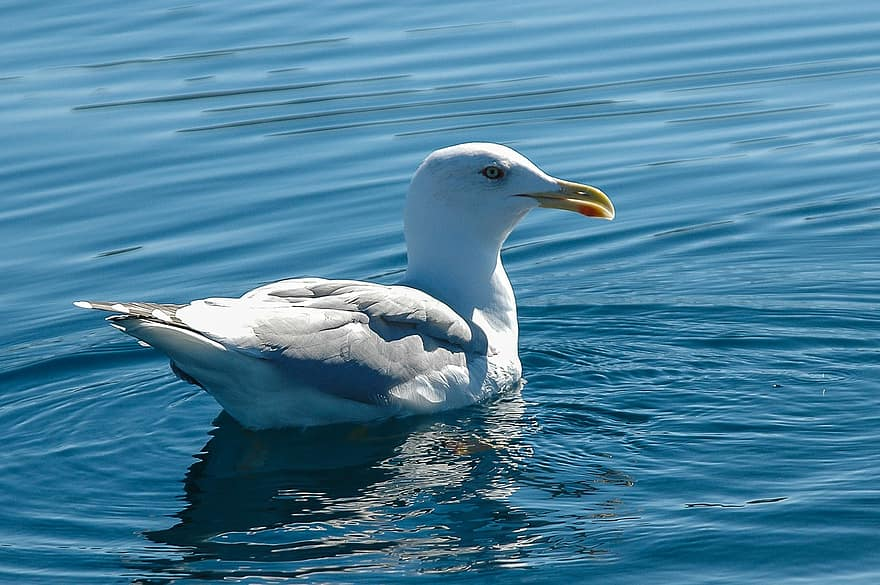bird: (66, 126, 632, 470)
